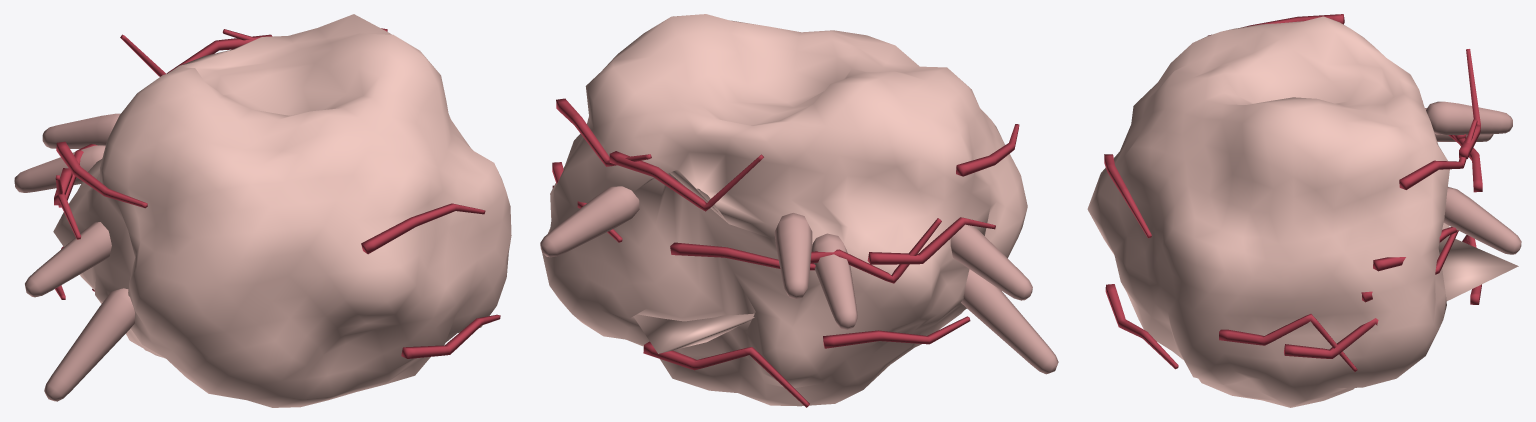
The model's file is SM_SkinStealer_Mass.fbx.
The picture shows the model from 3 angles, left to right: view 1: azimuth 30°, elevation 25°; view 2: azimuth 150°, elevation 25°; view 3: azimuth 270°, elevation 25°; orthographic projection. The views are drawn at different scales.
Parts seen in each view (by area): view 1: SM_SkinStealer_Mass; view 2: SM_SkinStealer_Mass; view 3: SM_SkinStealer_Mass.
Boxes of the visible parts, x1,y1,x2,y2 form: SM_SkinStealer_Mass: (14, 14, 511, 407); SM_SkinStealer_Mass: (540, 14, 1058, 407); SM_SkinStealer_Mass: (1087, 14, 1521, 407).
Bounding box in the file's own units: 135 × 91.93 × 117.
